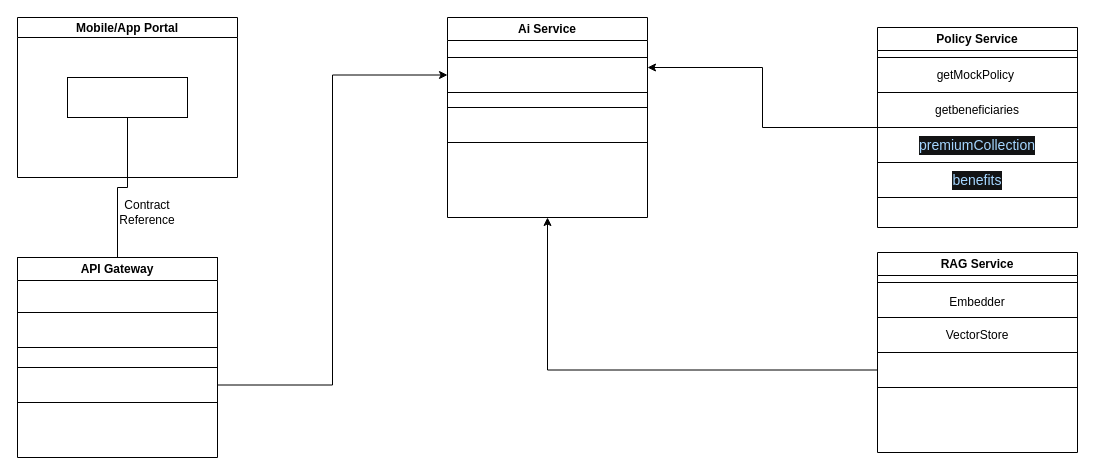
This 1095x475 diagram has some shape labels left out. The centre of each missing label's shape, as x and y in pixels:
"ask_ai(question, policy_ref, history dict )" belongs at point (547, 74).
"ask_ai_endpoint(q uestion_req)" belongs at point (117, 384).
"getPolicyendpoint (contract_ref )" belongs at point (117, 330).
"Login" belongs at point (127, 97).
"retriever" belongs at point (977, 370).
